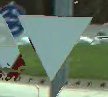Give way: (3, 0, 100, 91)
